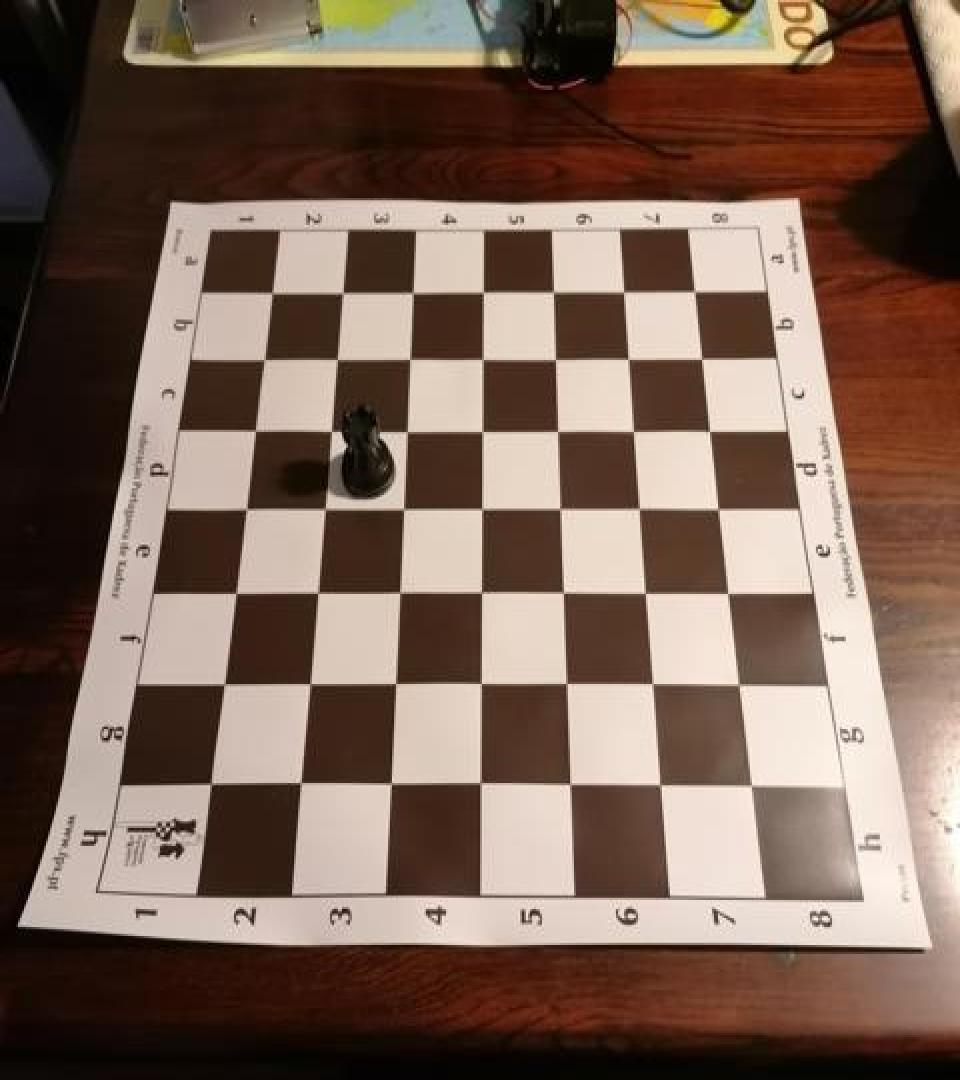xcorner: (710, 572, 742, 609), (626, 572, 658, 609), (543, 572, 575, 609), (460, 572, 492, 609), (377, 572, 409, 609), (296, 572, 328, 609), (215, 572, 247, 609), (733, 769, 765, 806), (640, 769, 672, 806), (549, 768, 581, 805), (675, 269, 707, 305), (604, 270, 636, 306), (533, 271, 565, 307), (463, 272, 495, 308), (393, 274, 425, 310), (324, 274, 356, 310), (255, 274, 287, 310), (683, 336, 715, 372), (609, 336, 641, 372), (535, 338, 567, 374), (462, 338, 494, 374), (390, 338, 422, 374), (318, 340, 350, 376), (246, 341, 278, 377), (691, 408, 723, 444), (614, 410, 646, 446), (538, 410, 570, 446), (461, 410, 493, 446), (386, 410, 418, 446), (311, 412, 343, 448), (236, 412, 268, 448), (700, 487, 732, 523), (620, 487, 652, 523), (540, 488, 572, 524), (461, 488, 493, 524), (382, 488, 414, 524), (304, 488, 336, 524), (226, 490, 258, 526), (721, 667, 753, 703), (633, 666, 665, 702), (546, 666, 578, 702), (459, 666, 491, 702), (373, 665, 405, 701), (287, 665, 319, 701), (203, 665, 235, 701), (458, 767, 490, 803), (367, 766, 399, 802), (278, 766, 310, 802), (189, 765, 221, 801)
